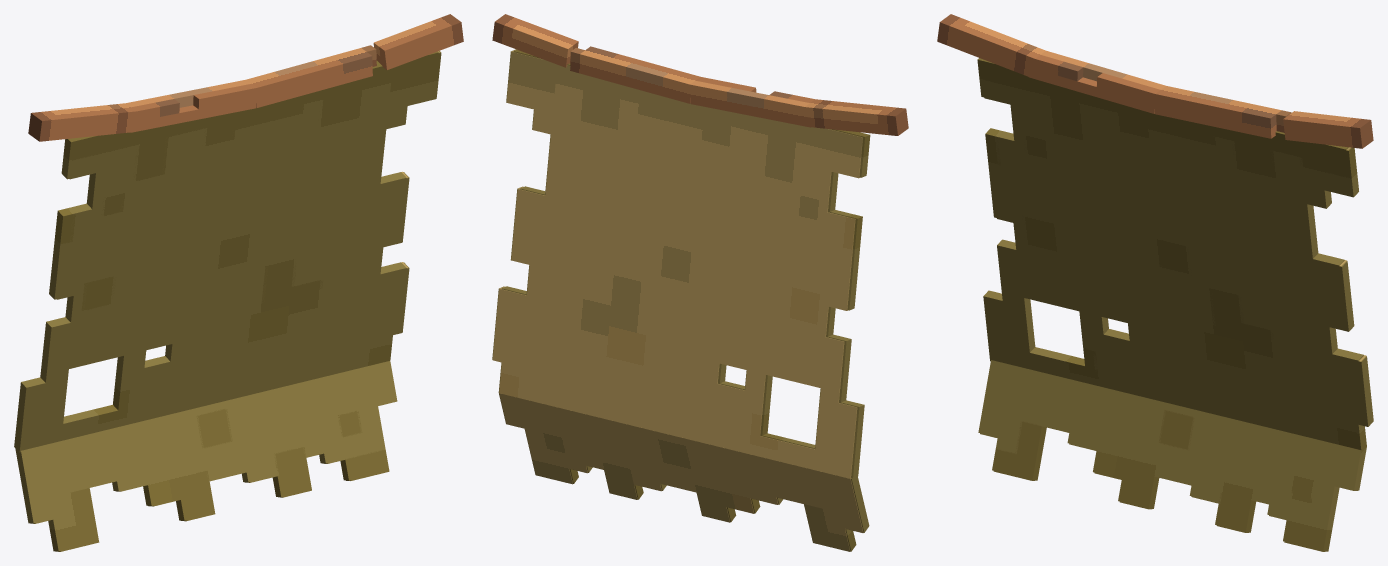
The model's file is icon_rattysail.gltf.
3 views of the same model, side by side, from view 1: azimuth 30°, elevation 25°; view 2: azimuth 150°, elevation 25°; view 3: azimuth 330°, elevation 25° (orthographic). The views are drawn at different scales.
Parts seen in each view (by area): view 1: B2-Local, B1-Local, B3-Local, B4-Local, x2-Local, x3-Local, x4-Local, X1-Local; view 2: A2-Local, A3-Local, B2-Local, x2-Local, x3-Local, x4-Local, X1-Local, B4-Local; view 3: B1-Local, B2-Local, B3-Local, B4-Local, x3-Local, x2-Local, x4-Local, X1-Local.
Boxes of the visible parts, x1,y1,x2,y2 form: B2-Local: [14, 51, 438, 452]; B1-Local: [49, 51, 441, 430]; B3-Local: [22, 361, 397, 551]; B4-Local: [15, 363, 392, 551]; x2-Local: [246, 45, 376, 107]; x3-Local: [126, 79, 256, 132]; x4-Local: [28, 103, 136, 141]; X1-Local: [373, 14, 463, 69]; A2-Local: [492, 49, 862, 478]; A3-Local: [499, 393, 863, 551]; B2-Local: [501, 50, 870, 478]; x2-Local: [570, 46, 700, 103]; x3-Local: [690, 77, 814, 127]; x4-Local: [805, 99, 908, 135]; X1-Local: [492, 14, 578, 67]; B4-Local: [569, 466, 869, 551]; B1-Local: [981, 62, 1373, 452]; B2-Local: [977, 58, 1365, 449]; B3-Local: [980, 361, 1366, 551]; B4-Local: [978, 360, 1355, 541]; x3-Local: [1028, 50, 1165, 113]; x2-Local: [1154, 86, 1291, 138]; x4-Local: [937, 14, 1045, 78]; X1-Local: [1283, 111, 1373, 148].
Size of the model in its own units: 43.86 by 45.04 by 7.58.
10 materials, 10 textured.
